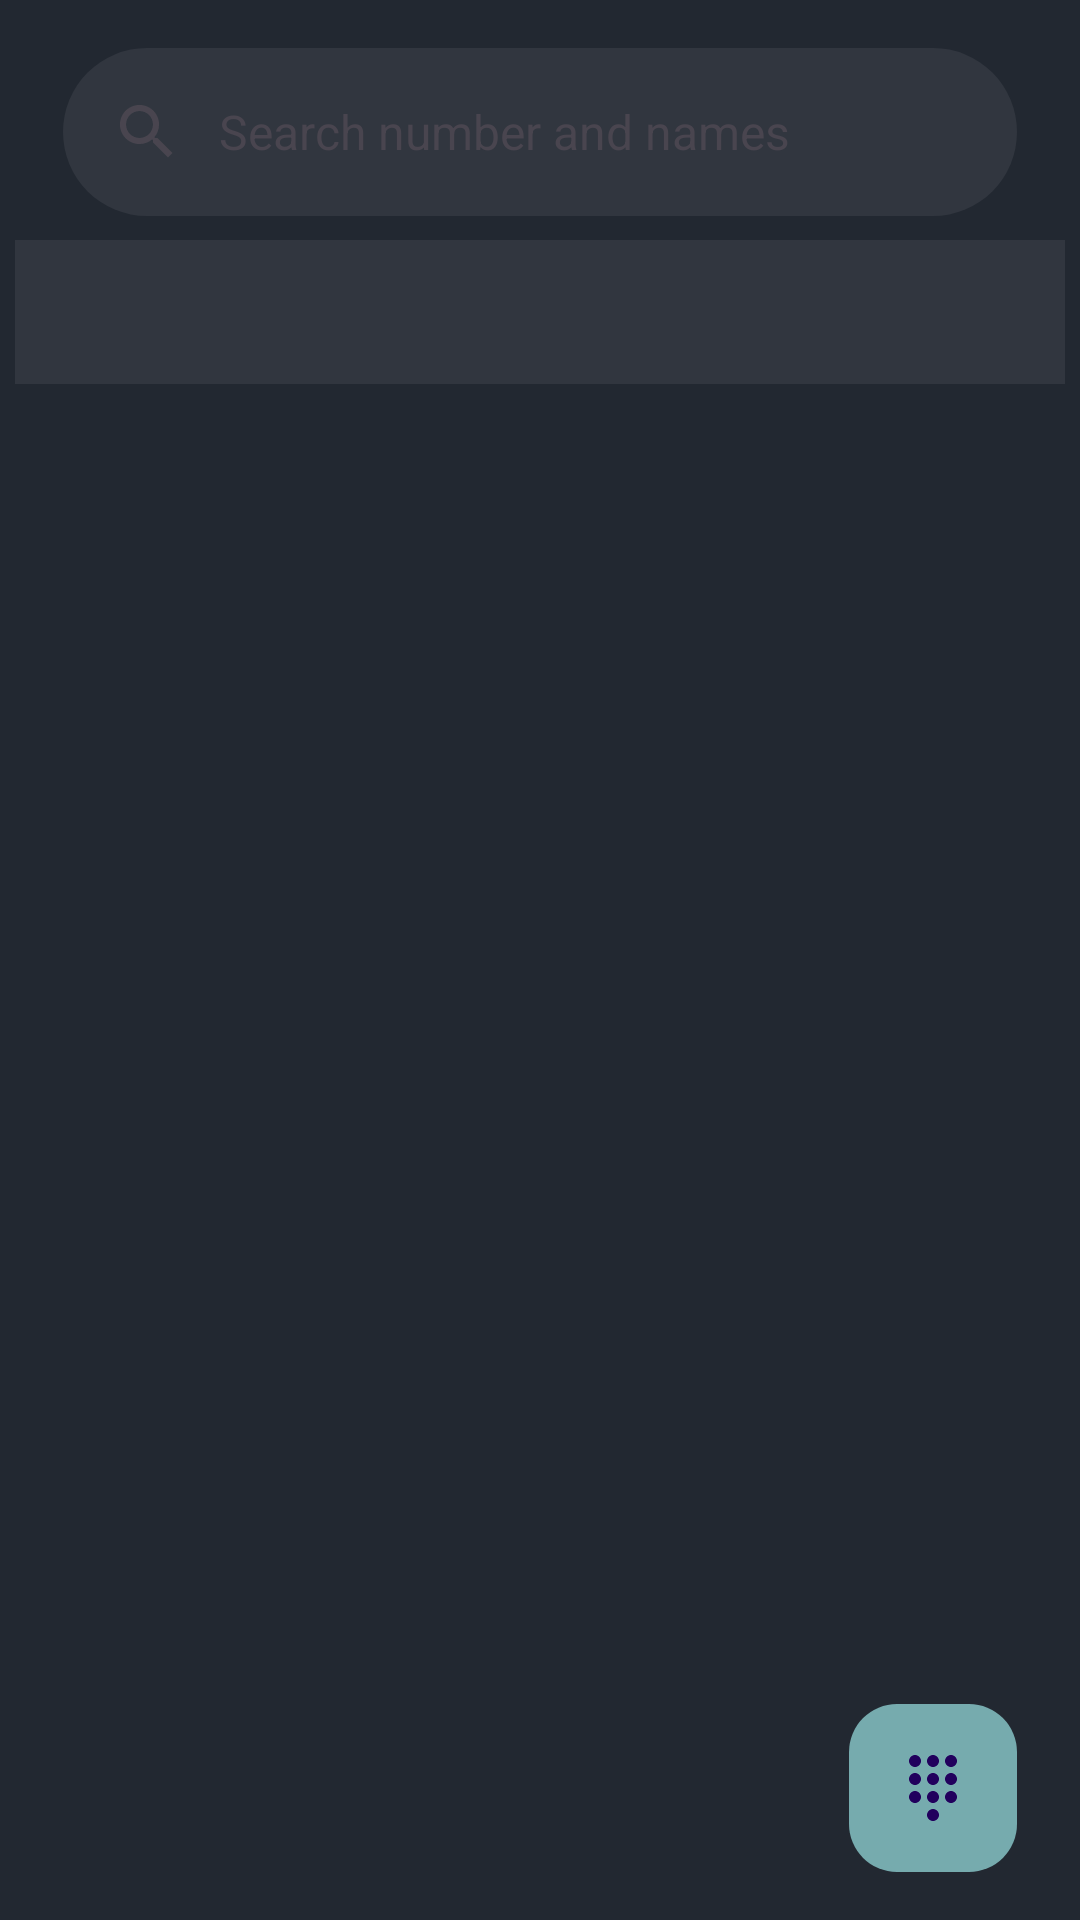

Screen size 1080×1920. Icon name, then its box in pixels as (x1, y1, x2, y2):
dial pad: (849, 1704, 1017, 1872)
